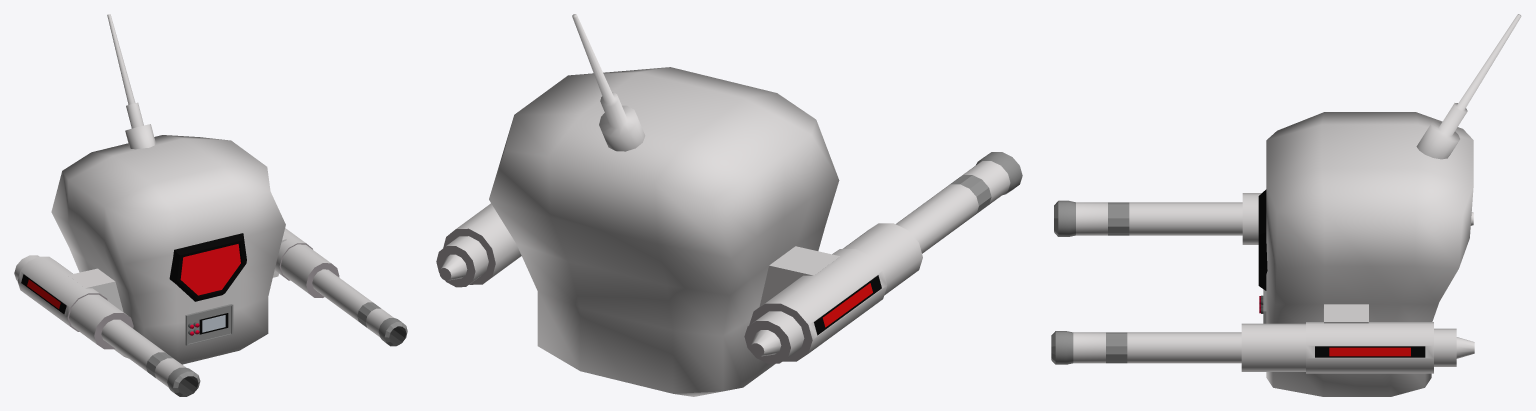
Rendered from Enemy1.fbx.
The picture shows the model from 3 angles, left to right: view 1: azimuth 30°, elevation 25°; view 2: azimuth 150°, elevation 25°; view 3: azimuth 270°, elevation 25°; orthographic projection. The views are drawn at different scales.
Parts seen in each view (by area): view 1: Carcaça, ArmaDireita, ArmaEsquerda; view 2: Carcaça, ArmaDireita, ArmaEsquerda; view 3: Carcaça, ArmaEsquerda, ArmaDireita.
Part boxes in pixels (x1=…): Carcaça: x1=51, y1=14, x2=286, y2=364; ArmaDireita: x1=14, y1=255, x2=200, y2=396; ArmaEsquerda: x1=275, y1=228, x2=407, y2=346; Carcaça: x1=489, y1=14, x2=839, y2=396; ArmaDireita: x1=744, y1=152, x2=1022, y2=363; ArmaEsquerda: x1=436, y1=203, x2=521, y2=287; Carcaça: x1=1258, y1=14, x2=1521, y2=396; ArmaEsquerda: x1=1051, y1=322, x2=1474, y2=373; ArmaDireita: x1=1054, y1=193, x2=1473, y2=244.
Size of the model in its own units: 520 by 570 by 674.
